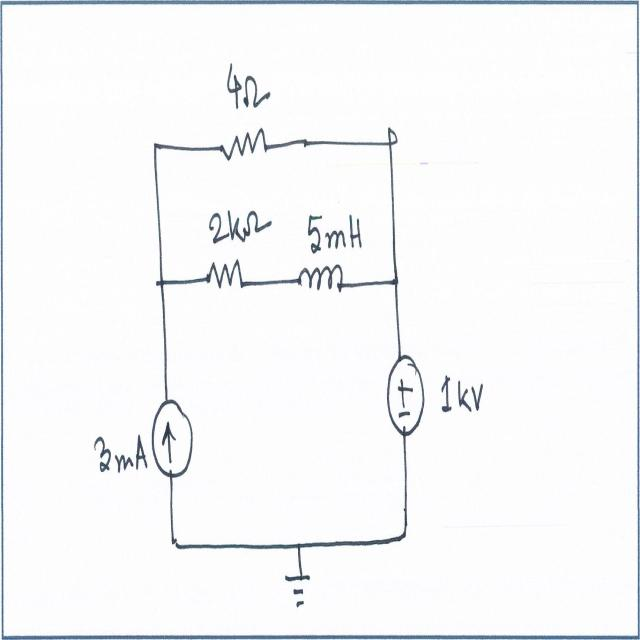current_source: (149, 398, 199, 484)
ground: (282, 571, 316, 622)
inductor: (298, 262, 343, 298)
resistor: (219, 120, 266, 174), (206, 256, 244, 300)
voltage_source: (385, 347, 424, 442)
